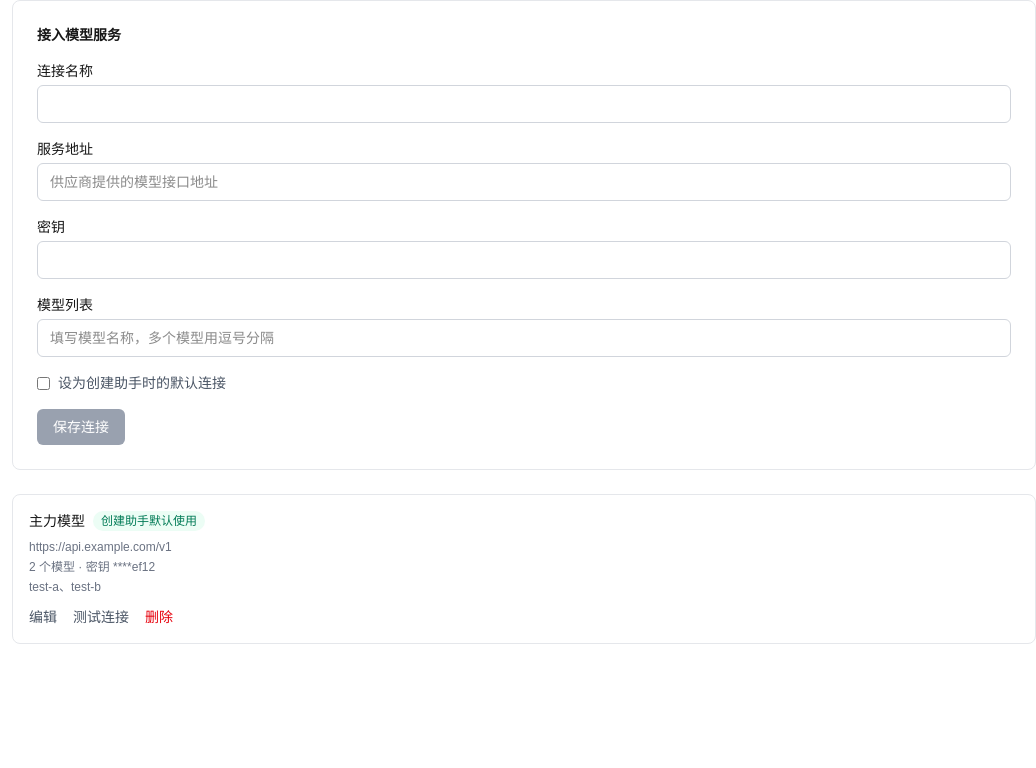
Test: 模型连接管理界面 › 连通测试成功显示结果
Click the button "测试连接" at (101, 617), box [73,607,129,627]
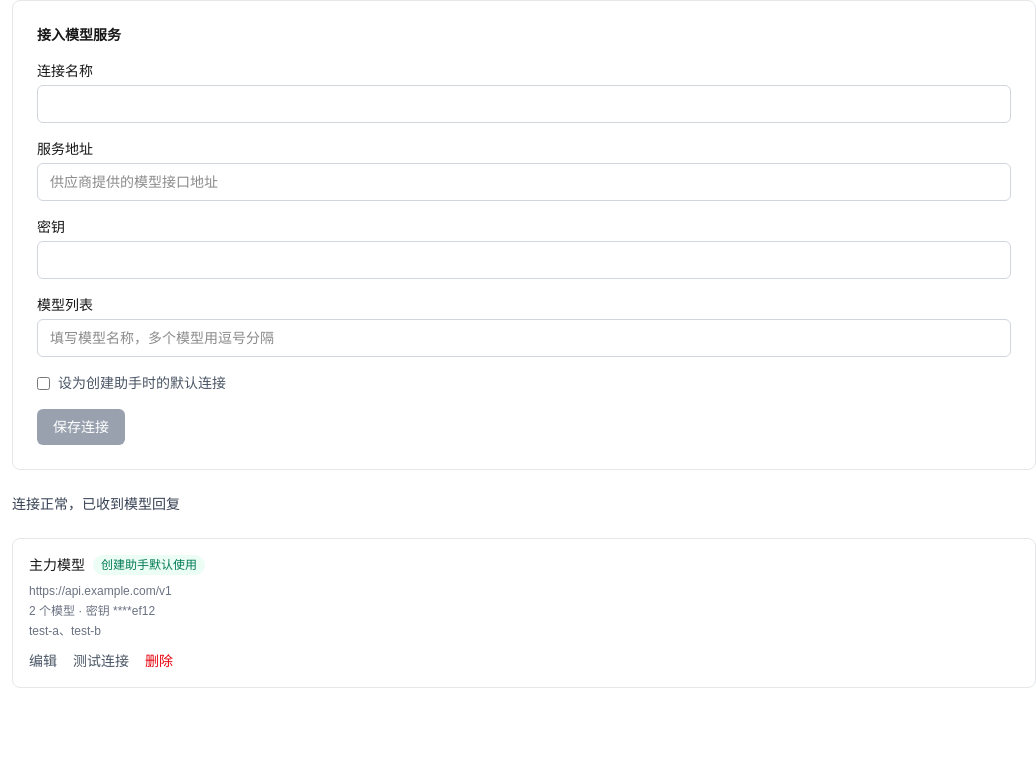
Now the message shows "连接正常", box [12,496,180,512]
